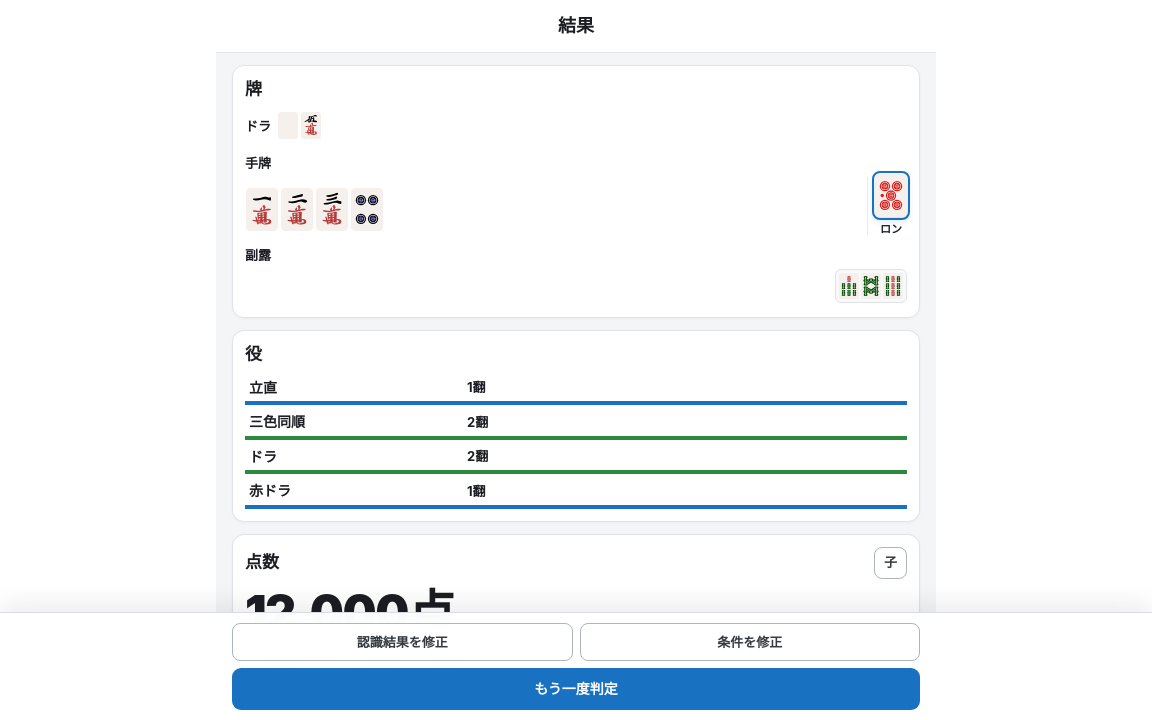
Scenario: result page presentation › keeps Result-origin condition edits local and cancel restores the exact prior session
Click the button "条件を修正": (750, 642) [580,623,920,661]
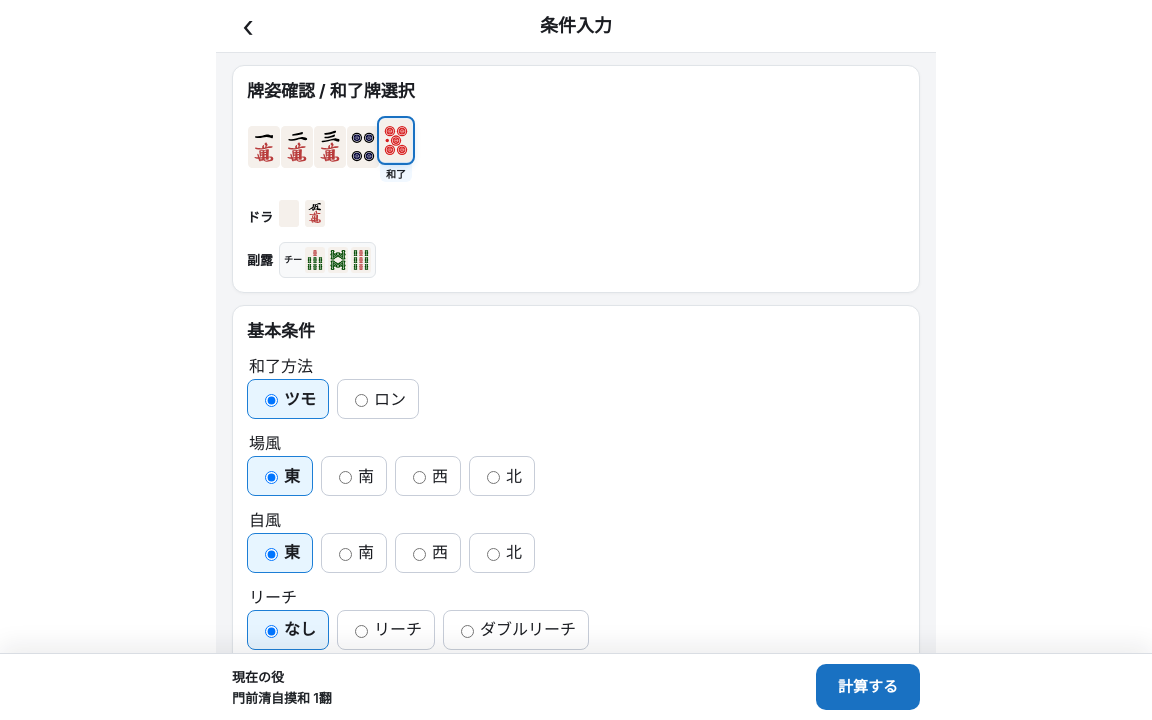
Result: the heading "条件入力" is shown at [540,15,612,36]
Click the radio button labelled "南" below "自風": (346, 554) [339,548,352,561]
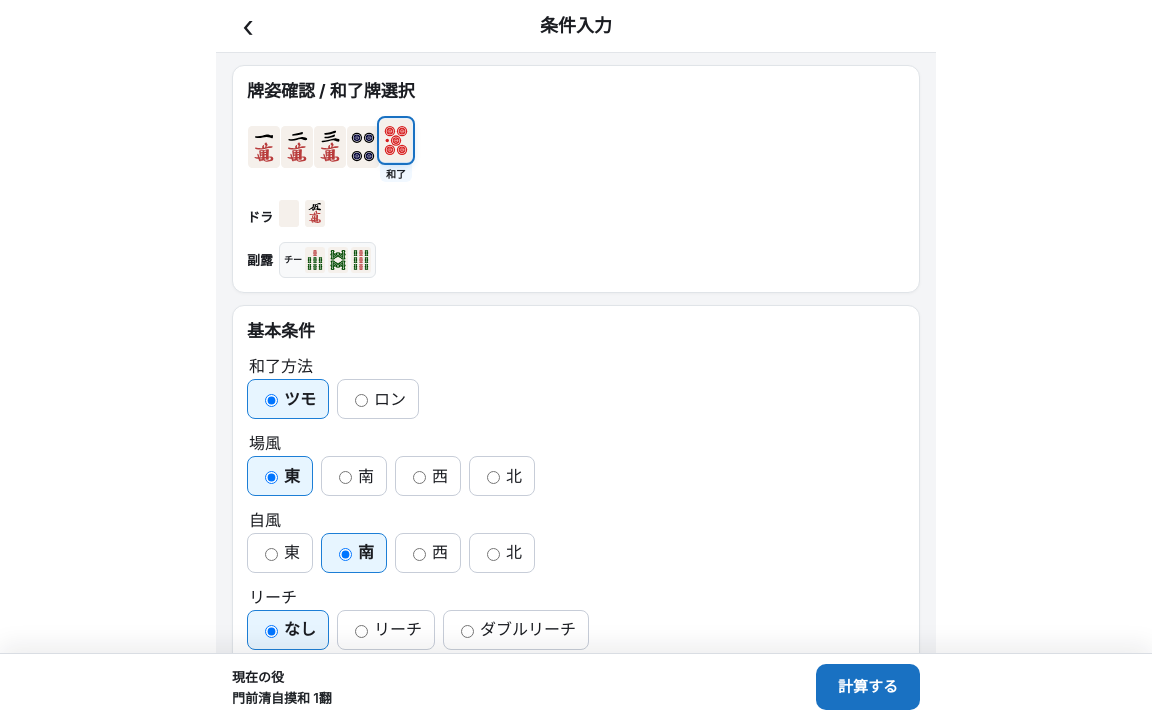
Click the button named "1萬 1": (264, 152) [248,122,280,182]
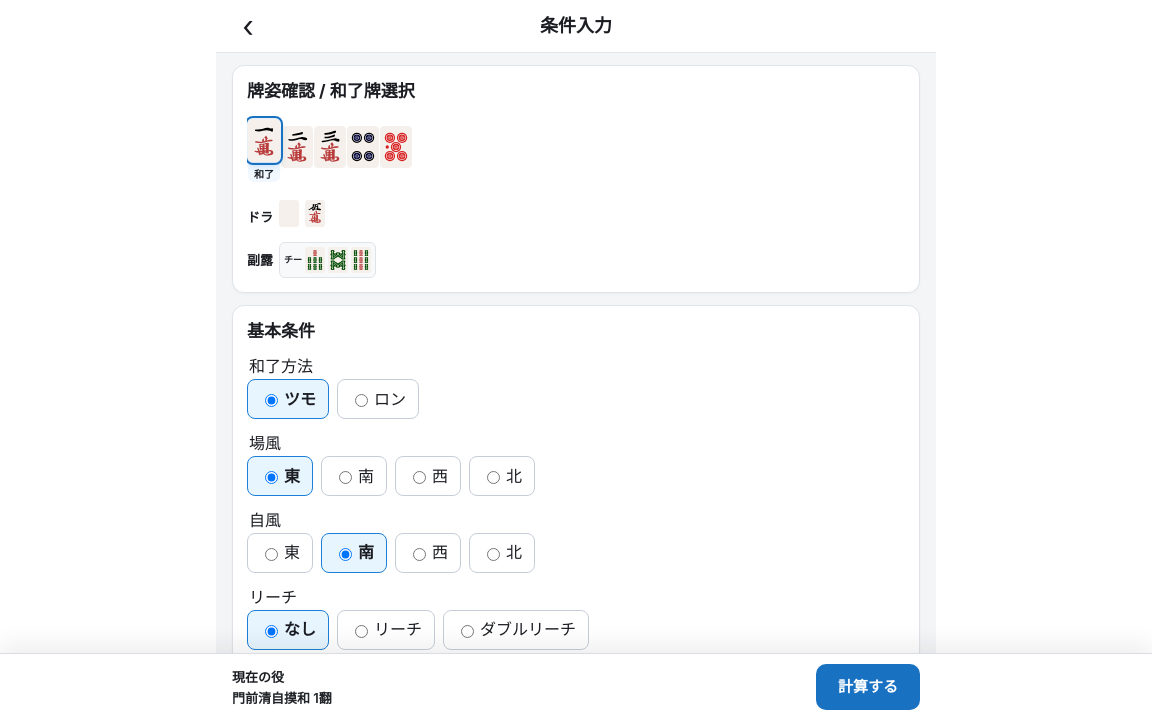
Click the button named "戻る": (248, 26) [228,6,268,46]
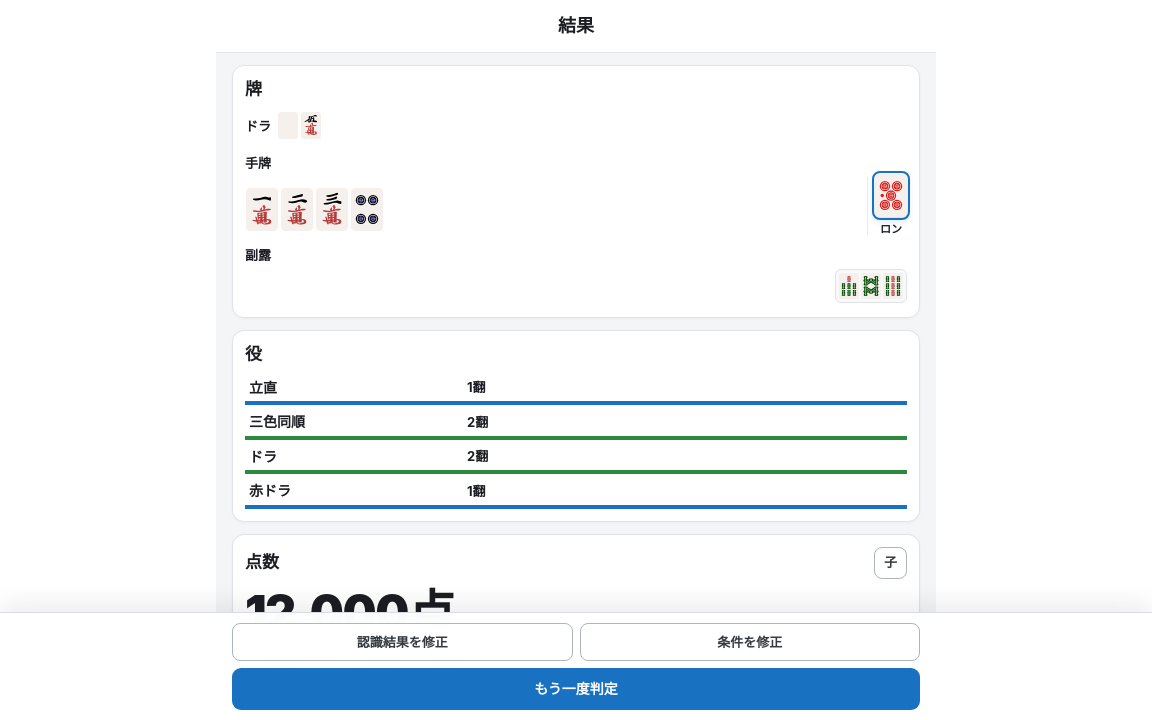
Result: the heading "結果" is shown at [558,15,594,36]
